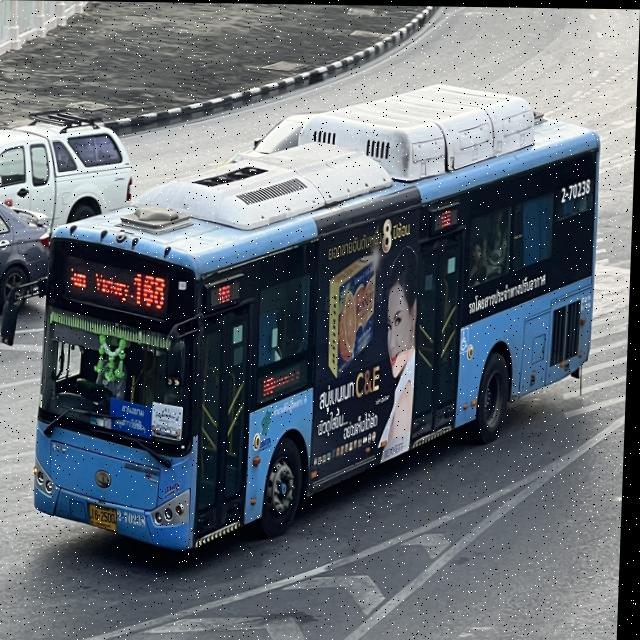BMTA-bus: (35, 86, 603, 554)
Bus Line Number: (132, 265, 171, 312)
Bus Side Number: (120, 504, 152, 531)
Destination Sign: (113, 397, 157, 438)
